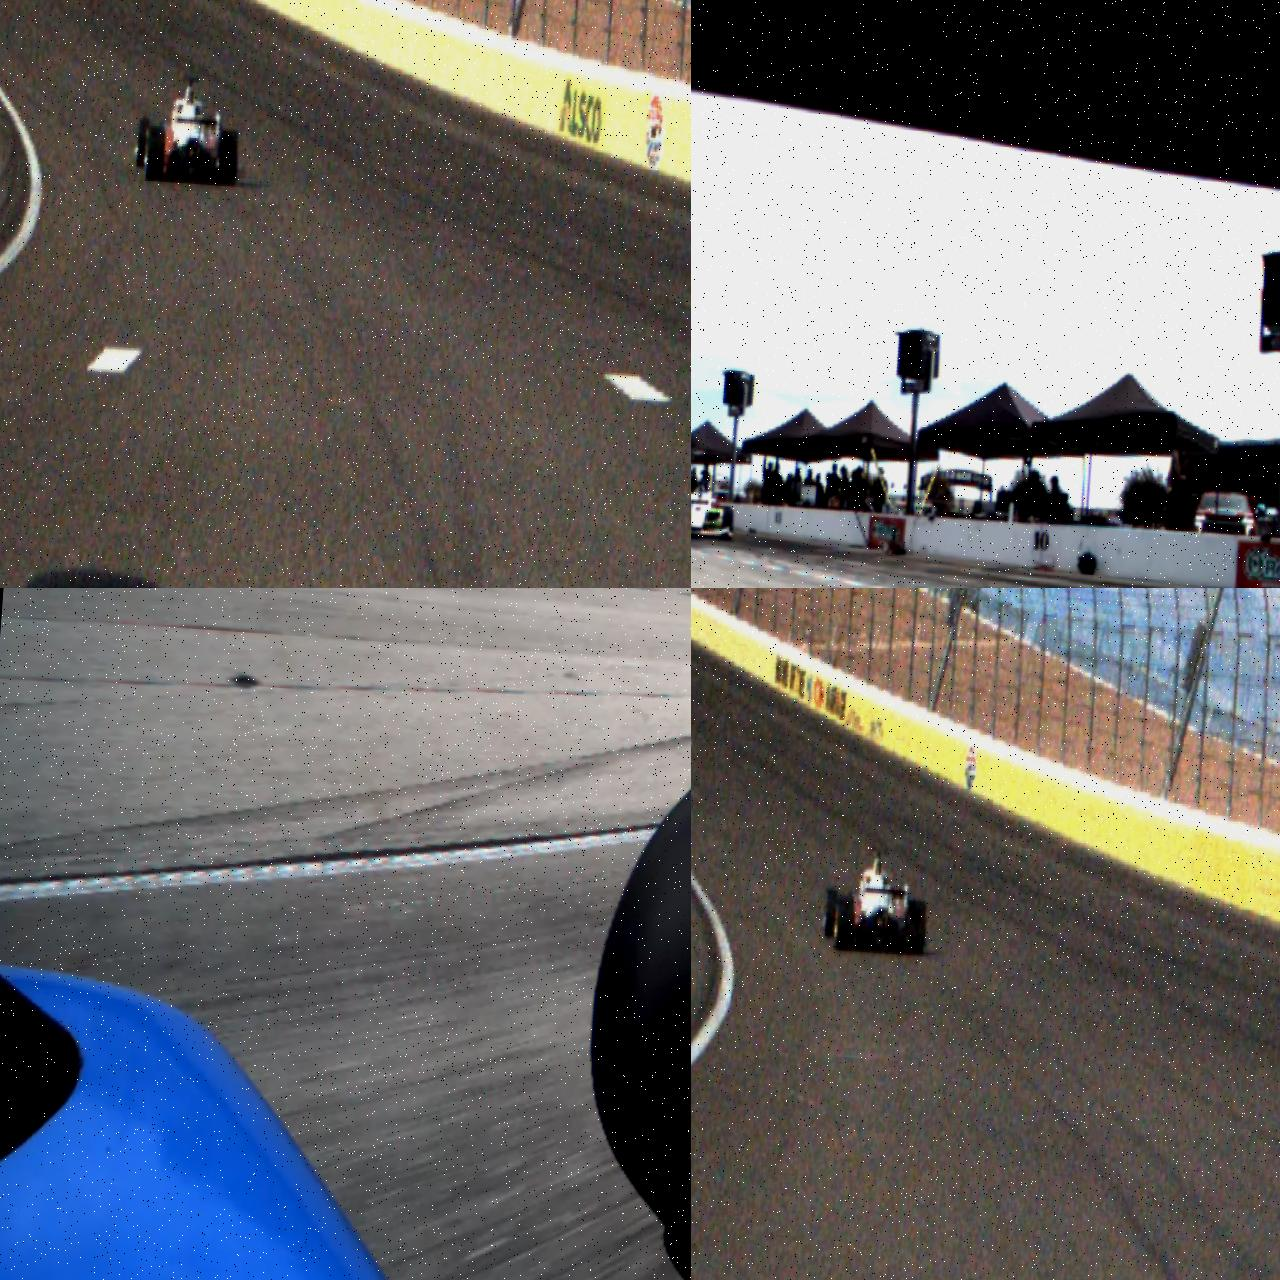AV: (821, 844, 933, 958), (132, 73, 244, 188), (692, 478, 738, 543)
Wheel: (576, 743, 692, 1279), (217, 129, 240, 188), (906, 899, 930, 956), (144, 123, 166, 183), (835, 893, 857, 952), (136, 116, 152, 169), (824, 888, 839, 939), (722, 508, 735, 542)
